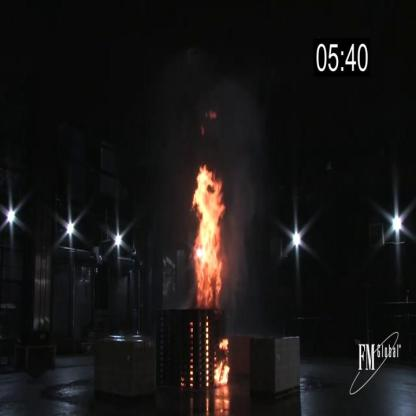fire: (188, 153, 224, 309), (208, 339, 234, 388)
